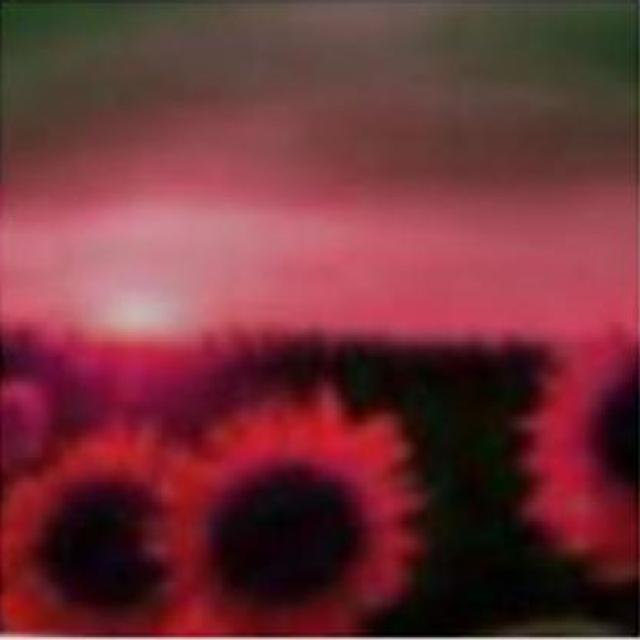sunflower: (157, 386, 426, 640)
